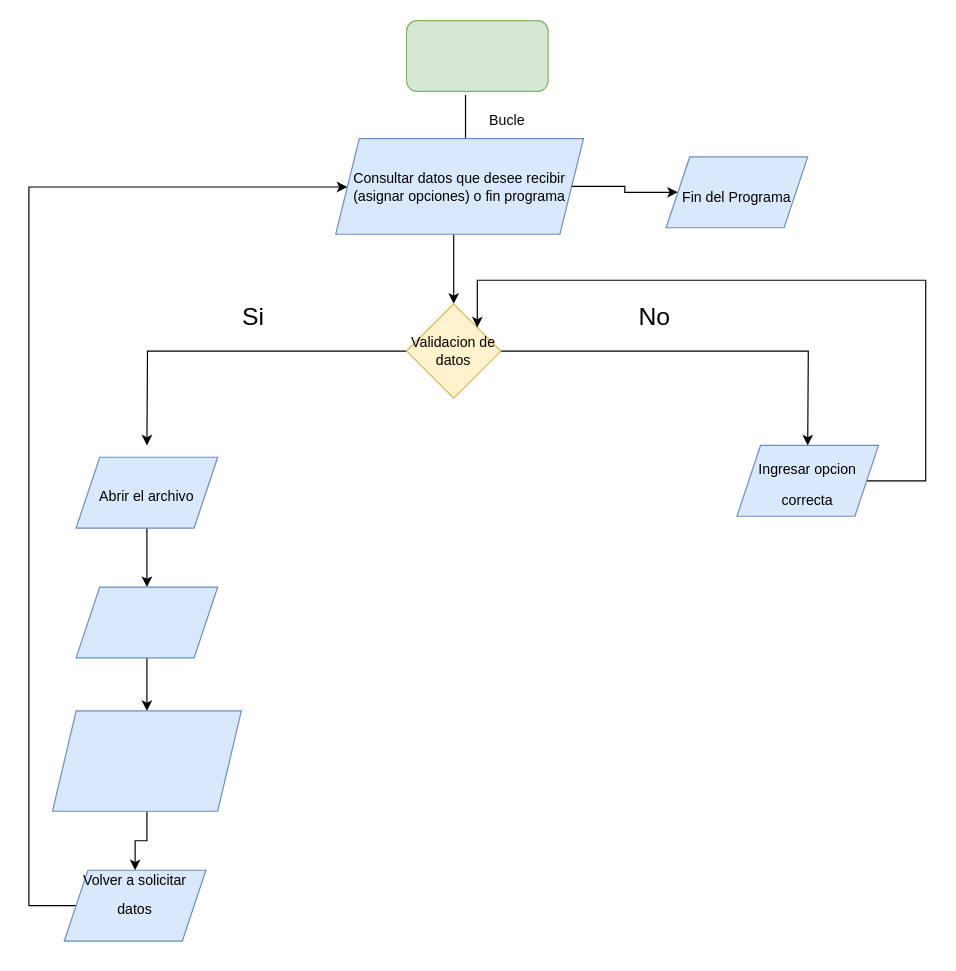
Image size: 956x971. Some labels were removed from this diagram. The centre of each missing label's shape, as x and y in pixels:
"Buscar los datos requeridos" goes at point (146, 622).
"Devolver un mensaje con el dato porcentual solicitado" goes at point (146, 760).
"Inicio del programa" goes at point (476, 55).
